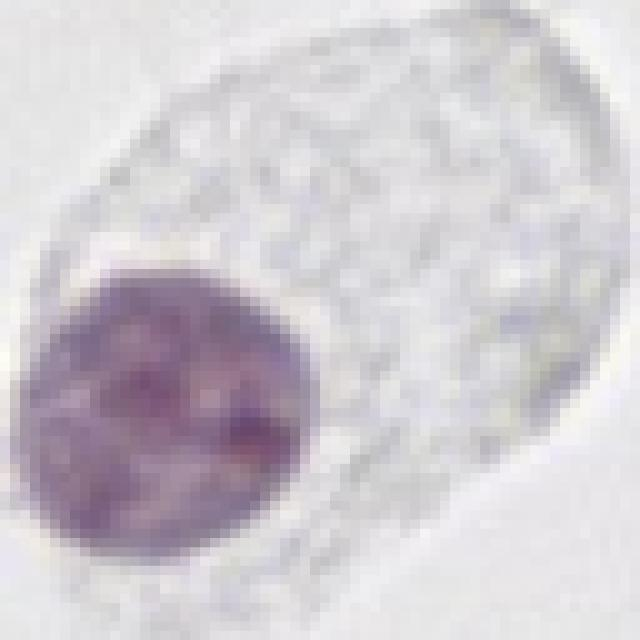nucleus: (0, 220, 360, 625)
